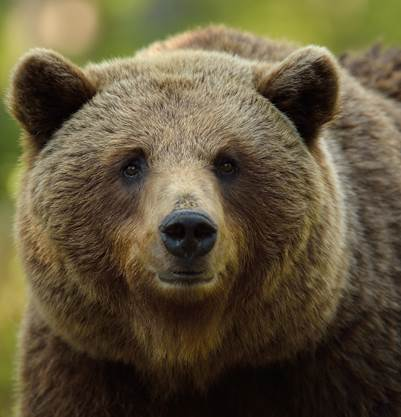bear: (3, 43, 347, 380)
